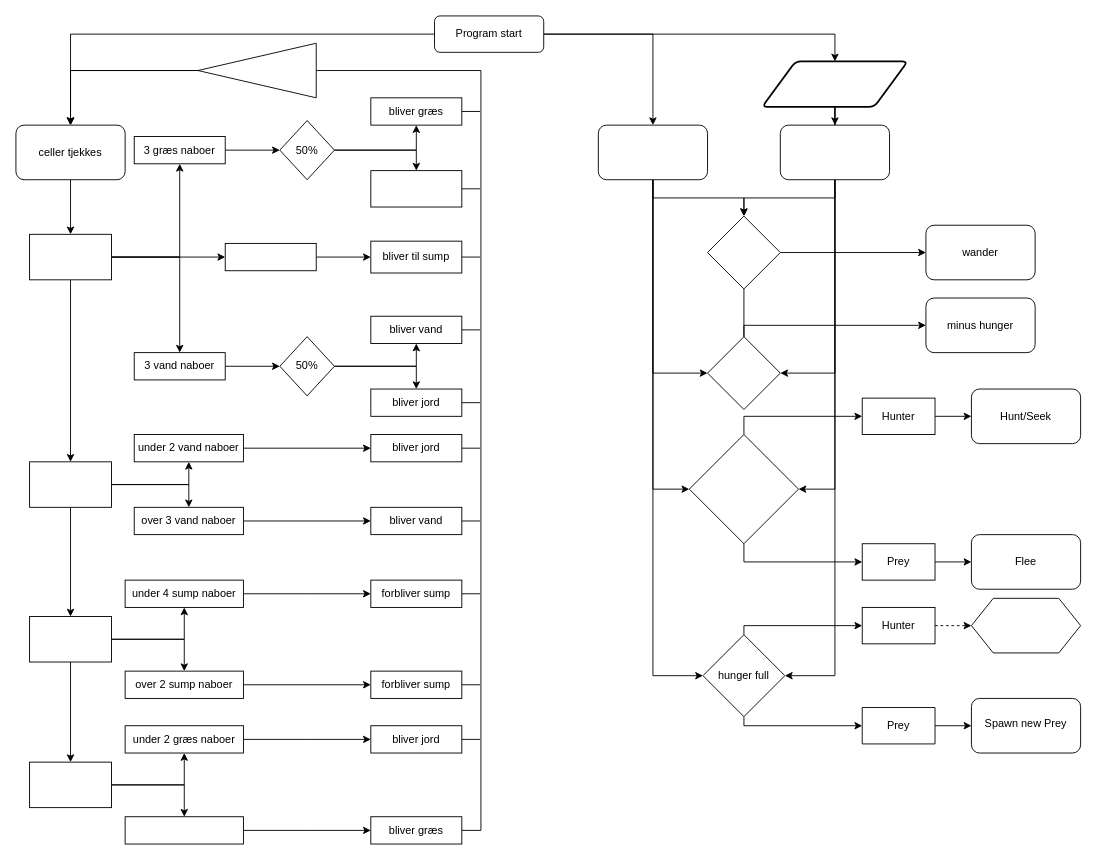
Some shapes in this 1101 by 860 pixel diagram are drawn without their labels. The shapes that lost their labels are listed below. From the top down, each one's box as (x1, y1, x2, y2) in pixels, then its label:
(197, 42, 316, 98): vent på counter
(761, 60, 908, 107): defineret mængde
(597, 124, 708, 180): Hunter spawnes
(779, 124, 890, 180): Prey spawnes
(370, 170, 462, 207): bliver groende græs
(29, 233, 111, 280): Jord
(224, 243, 316, 271): 3 sump naboer
(707, 215, 780, 289): timer<500
(707, 336, 780, 410): hunger > 0
(29, 461, 111, 507): Vand
(688, 434, 799, 544): dist target < range
(29, 616, 111, 662): sump
(971, 597, 1081, 653): Spawn new hunter
(29, 761, 111, 808): græs
(124, 816, 243, 844): over 3 græs naboer
